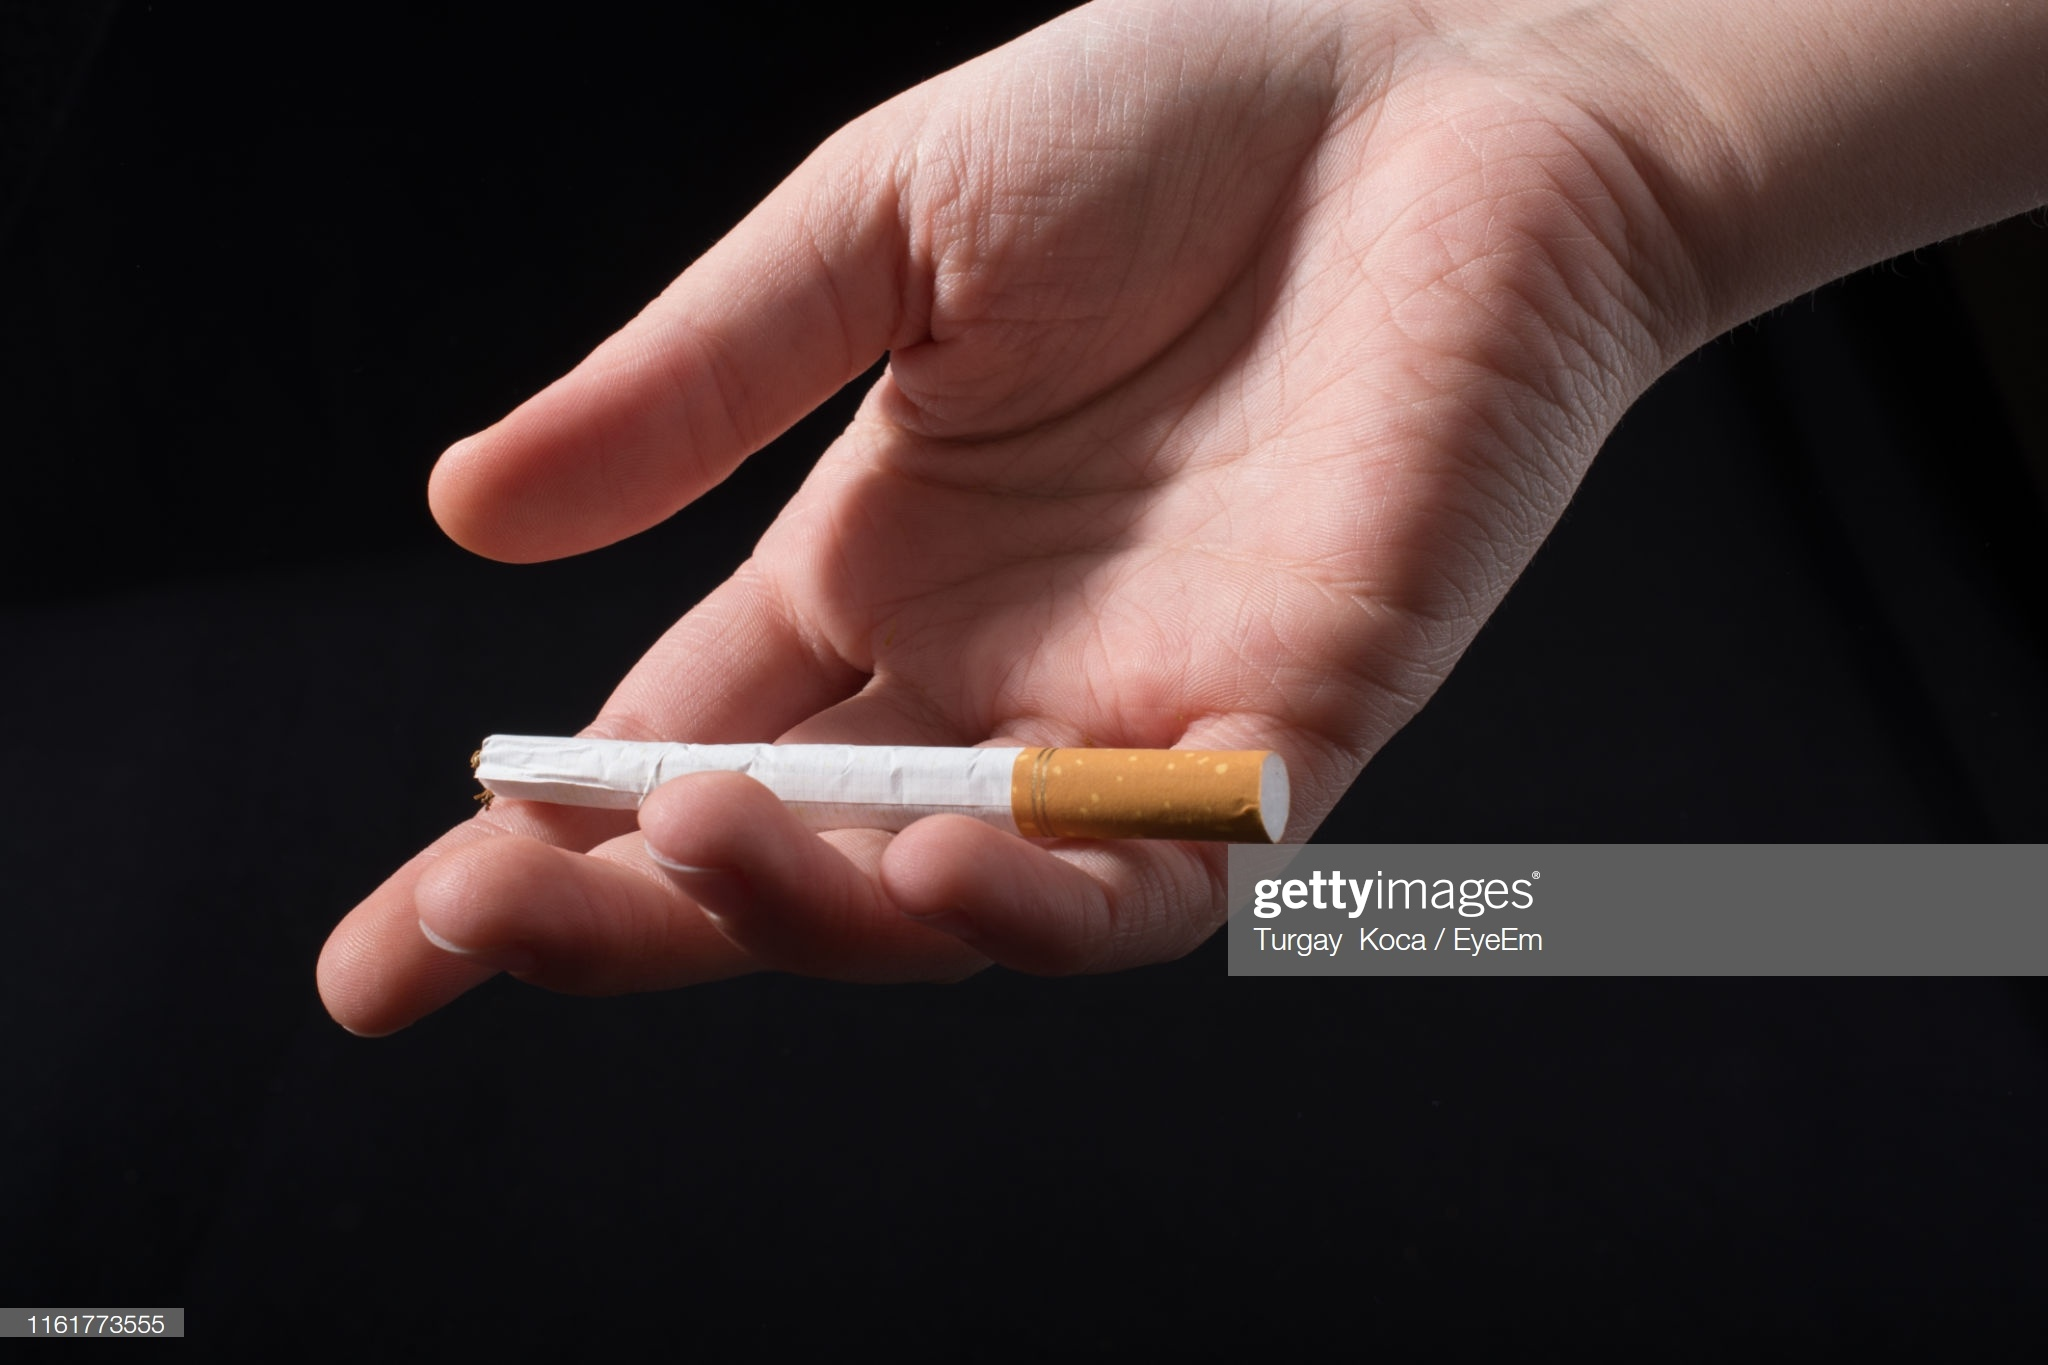sigaretta: (445, 713, 1296, 839)
